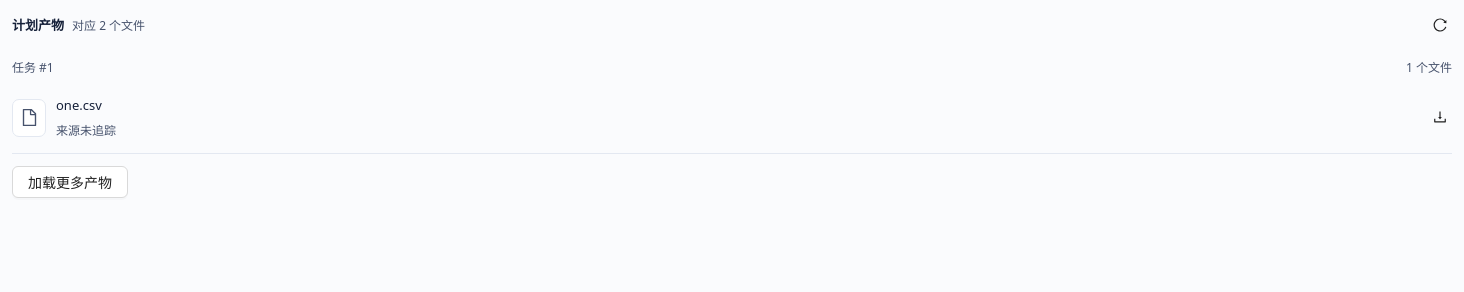
PlanTaskArtifacts lightweight listing › pages without losing producer ownership
This screenshot has width=1464, height=292.
Step 1. Click the button "加载更多产物" → (70, 182), box top-left (12, 166), bottom-right (128, 198)
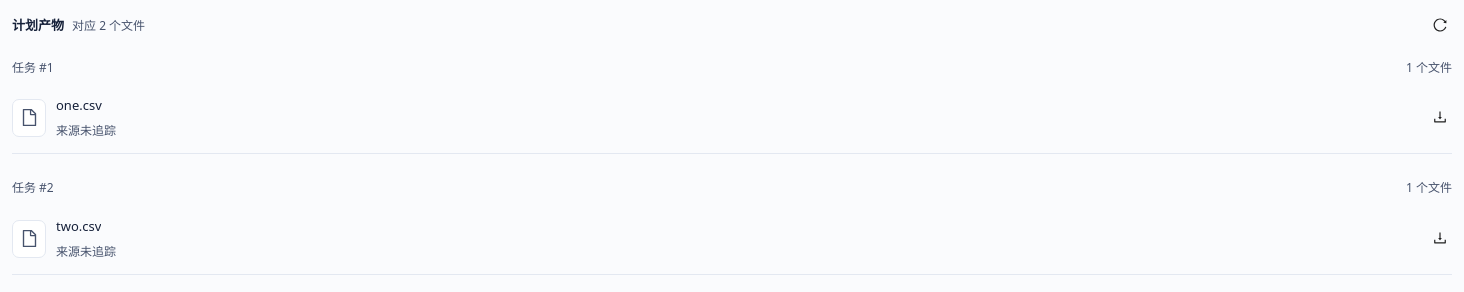
Expected: the button "one.csv" is shown, top-left (56, 94), bottom-right (102, 116)
Expected: the button "two.csv" is shown, top-left (56, 215), bottom-right (101, 237)
Expected: the text "任务 #2" is shown, top-left (12, 178), bottom-right (54, 199)
